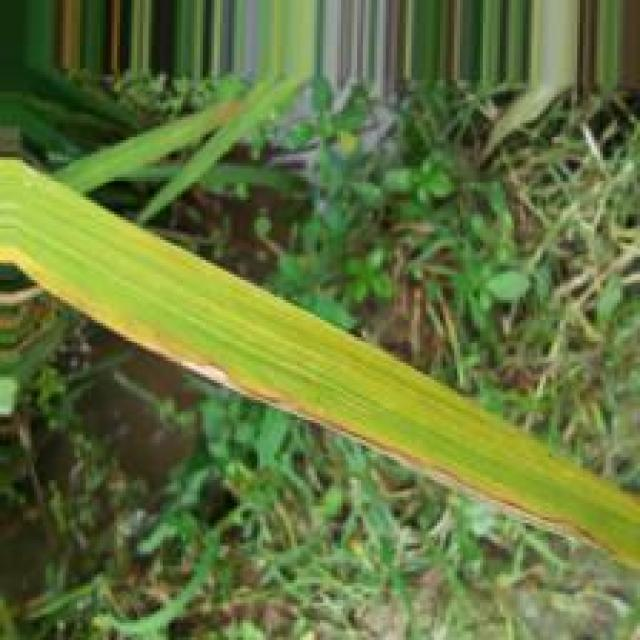Bacterial_Leaf_Blight: (73, 302, 627, 564)
